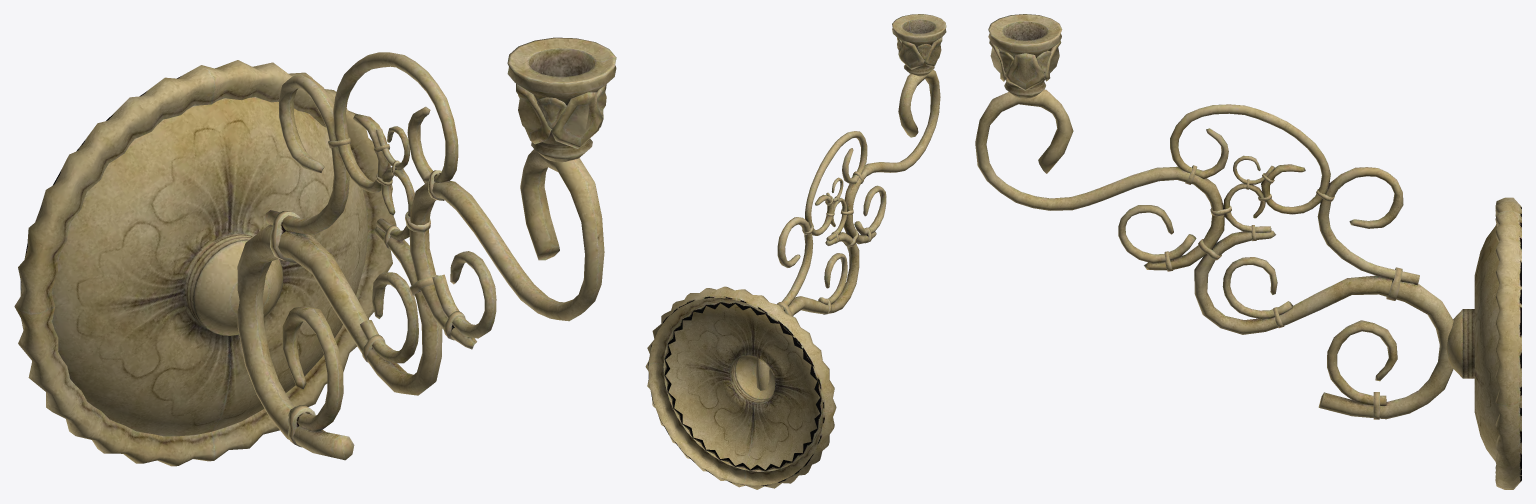
The model's file is candelabra.glb.
3 renders of one model, left to right at view 1: azimuth 30°, elevation 25°; view 2: azimuth 150°, elevation 25°; view 3: azimuth 270°, elevation 25°, orthographic. The views are drawn at different scales.
Parts seen in each view (by area): view 1: 2ndFlr_Candelabra_06_2ndFlr_Candelabra_06_0; view 2: 2ndFlr_Candelabra_06_2ndFlr_Candelabra_06_0; view 3: 2ndFlr_Candelabra_06_2ndFlr_Candelabra_06_0.
Boxes of the visible parts, x1,y1,x2,y2 form: 2ndFlr_Candelabra_06_2ndFlr_Candelabra_06_0: (14,37,616,466); 2ndFlr_Candelabra_06_2ndFlr_Candelabra_06_0: (645,14,946,489); 2ndFlr_Candelabra_06_2ndFlr_Candelabra_06_0: (975,14,1521,489).
Size of the model in its own units: 15.99 by 26.95 by 29.89.
Materials: 1 (1 with a texture image).
